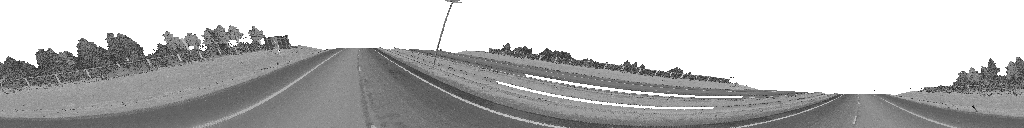light_pole: (435, 0, 461, 53)
